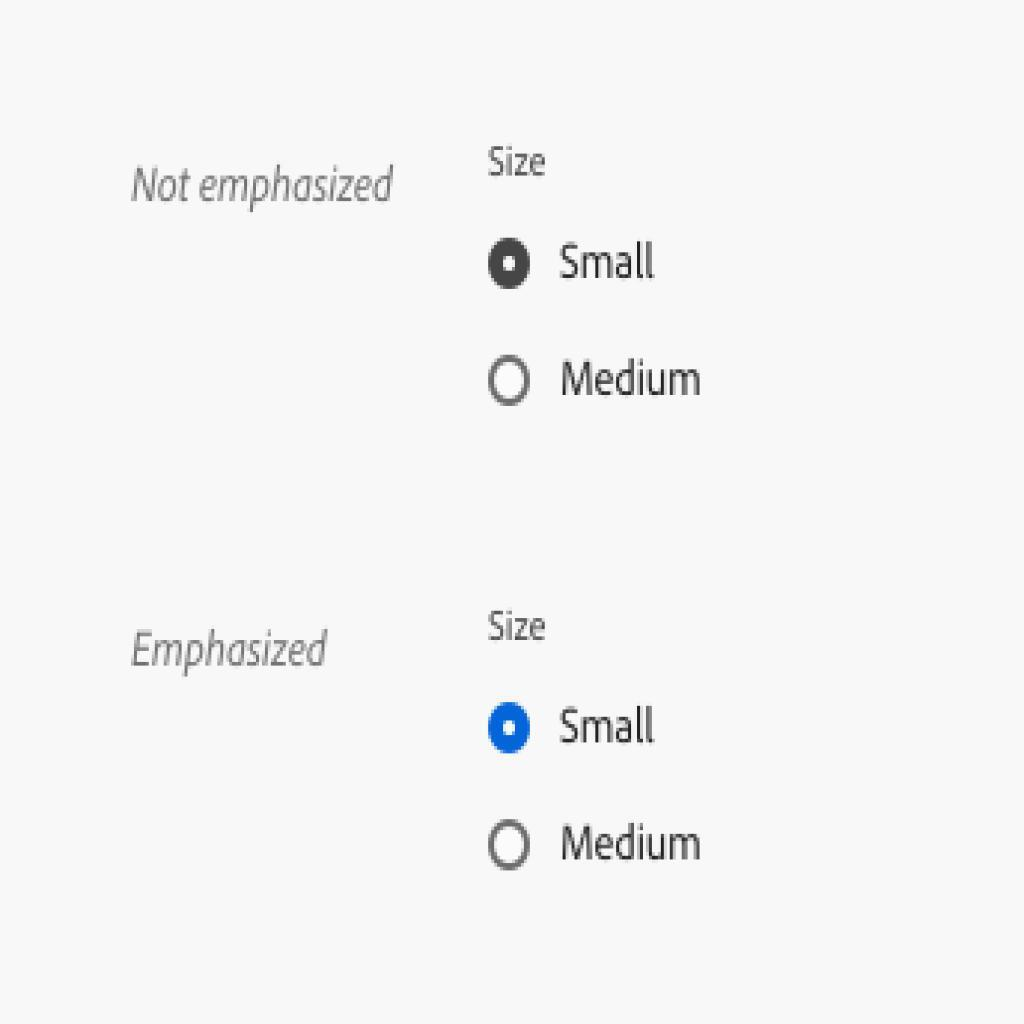radio: (483, 692, 539, 767), (485, 819, 542, 879), (484, 353, 539, 412), (485, 230, 536, 293)
